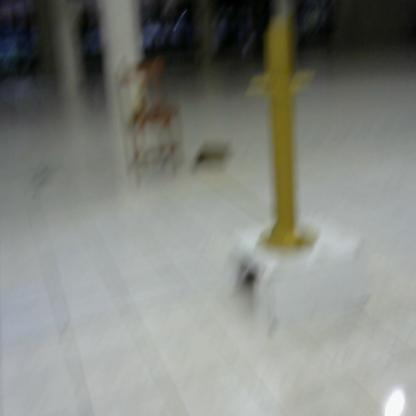pole: (246, 26, 324, 254)
